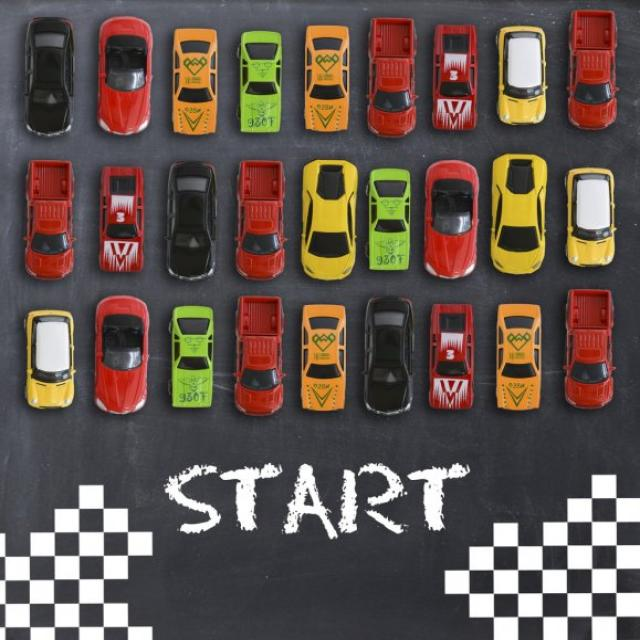Car: (96, 15, 153, 135), (22, 16, 75, 138)
